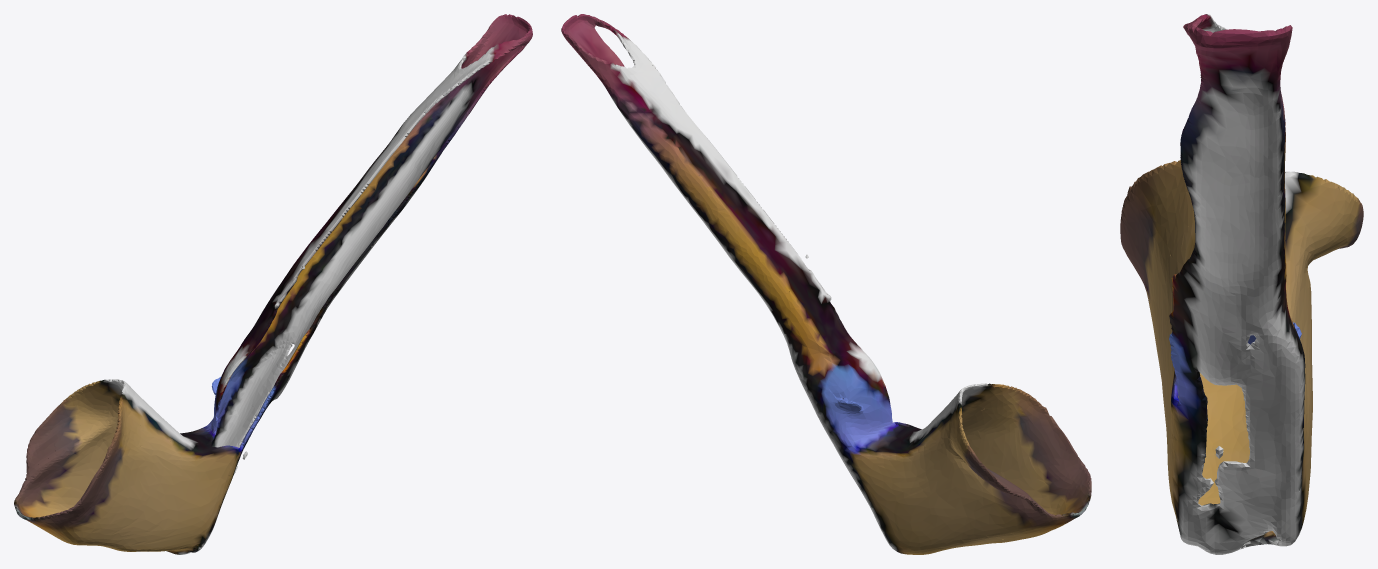
File: claypipe.glb
3 renders of one model, left to right at view 1: azimuth 30°, elevation 25°; view 2: azimuth 150°, elevation 25°; view 3: azimuth 270°, elevation 25°, orthographic. The views are drawn at different scales.
Visible parts, largest first — view 1: geometry_0; view 2: geometry_0; view 3: geometry_0.
Boxes of the visible parts, x1,y1,x2,y2 form: geometry_0: (14,14,532,554); geometry_0: (561,14,1091,554); geometry_0: (1120,14,1363,554).
Bounding box in the file's own units: 0.9688 × 0.8124 × 0.2121.
